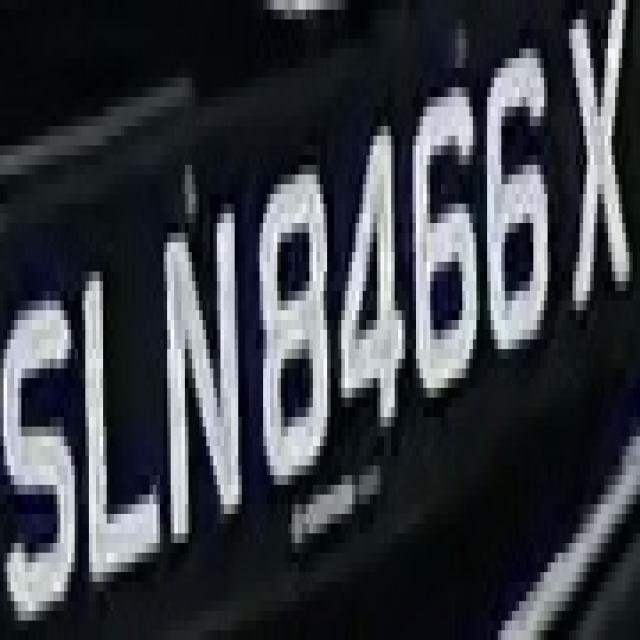4: (324, 88, 406, 436)
6: (398, 78, 484, 417), (480, 39, 562, 378)
8: (245, 155, 345, 524)
L: (68, 252, 164, 592)
N: (153, 175, 245, 562)
S: (4, 262, 82, 640)
X: (558, 0, 636, 310)
